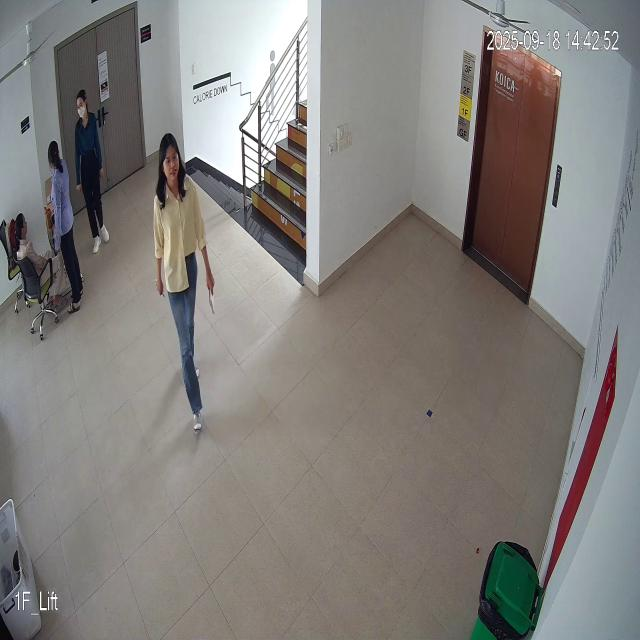face: (158, 133, 182, 189)
